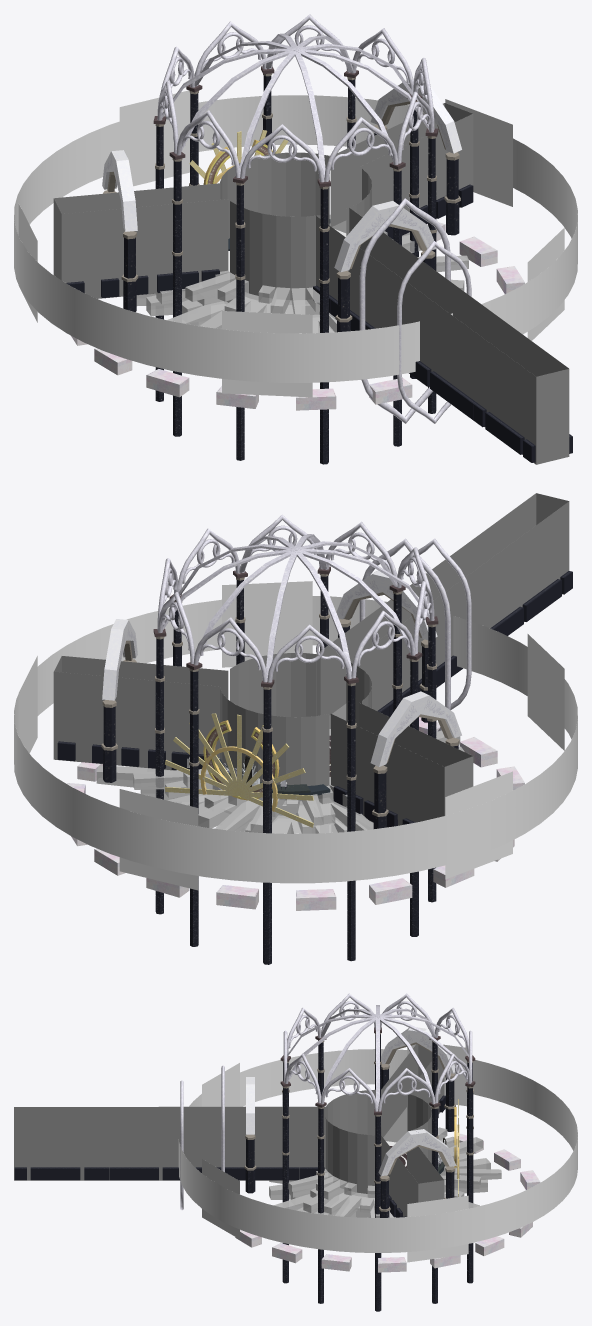
File: stage07.FBX
3 renders of one model, top to bottom at view 1: azimuth 30°, elevation 25°; view 2: azimuth 150°, elevation 25°; view 3: azimuth 270°, elevation 25°, orthographic. The views are drawn at different scales.
Visible parts, largest first — view 1: effect, doom, wall, bridge004, gate, bridge005, Object140, bridge006, bridge01, cris003, cris01, cris002 (+13 smaller); view 2: effect, doom, wall, gate, bridge004, Object140, Tube002, cris002, cris003, bridge006, bridge01, bridge005 (+11 smaller); view 3: effect, wall, doom, gate, bridge004, Object140, bridge01, cris003, cris002, bridge005, cris01, bridge006 (+6 smaller).
Part boxes in pixels (x1,y1,x2,y2): effect: (14,90,577,397); doom: (153,14,438,464); wall: (53,103,569,464); bridge004: (316,216,536,464); gate: (102,78,471,423); bridge005: (61,199,228,298); Object140: (71,222,524,410); bridge006: (359,114,473,218); bridge01: (313,285,572,462); cris003: (136,232,464,333); cris01: (185,231,387,314); cris002: (156,214,468,332); effect: (14,581,577,890); doom: (153,514,438,964); wall: (53,493,568,825); gate: (101,538,471,828); bridge004: (350,501,569,710); Object140: (66,717,524,910); Tube002: (165,713,313,827); cris002: (133,746,464,833); cris003: (96,730,460,833); bridge006: (62,656,228,699); bridge01: (377,571,572,716); bridge005: (359,703,472,766); effect: (178,1044,577,1262); wall: (14,1045,444,1202); doom: (280,993,475,1311); gate: (180,1027,456,1217); bridge004: (14,1106,325,1118); Object140: (235,1133,540,1272); bridge01: (14,1167,324,1180); cris003: (269,1137,490,1217); cris002: (289,1127,501,1217); bridge005: (381,1044,418,1137); cris01: (288,1136,457,1199); bridge006: (381,1135,418,1216).
Size of the model in its own units: 2510 by 1752 by 3540.
